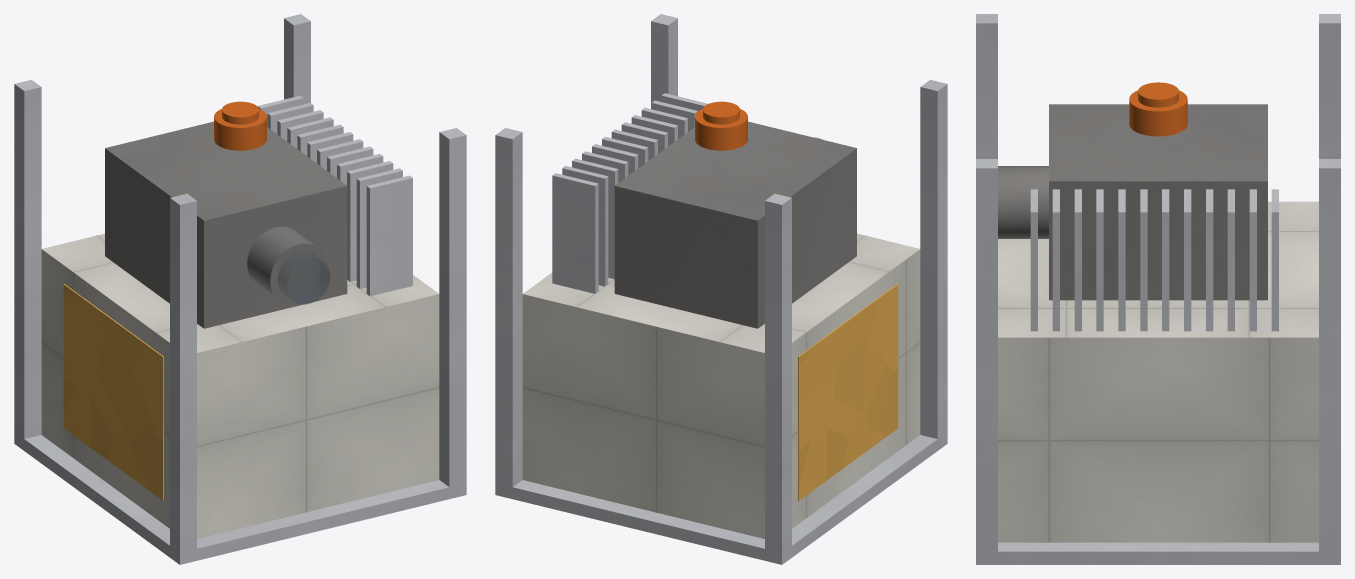
File: sci01_spectrometer_small.glb
3 renders of one model, left to right at view 1: azimuth 30°, elevation 25°; view 2: azimuth 150°, elevation 25°; view 3: azimuth 270°, elevation 25°, orthographic. The views are drawn at different scales.
Visible parts, largest first — view 1: body, slot_frame, spectrometer, gold_panels, cooler, port_1, optics; view 2: body, slot_frame, spectrometer, gold_panels, cooler, port_1; view 3: body, spectrometer, slot_frame, cooler, port_1.
Boxes of the visible parts, left/top/right/bottom form: body: left=41, top=233, right=439, bottom=538; slot_frame: left=14, top=14, right=466, bottom=564; spectrometer: left=105, top=121, right=347, bottom=328; gold_panels: left=63, top=284, right=163, bottom=500; cooler: left=257, top=95, right=412, bottom=296; port_1: left=214, top=101, right=266, bottom=150; optics: left=278, top=251, right=330, bottom=304; body: left=522, top=233, right=920, bottom=538; slot_frame: left=495, top=14, right=947, bottom=564; spectrometer: left=614, top=121, right=856, bottom=328; gold_panels: left=798, top=284, right=898, bottom=500; cooler: left=552, top=93, right=707, bottom=293; port_1: left=695, top=101, right=747, bottom=150; body: left=998, top=201, right=1318, bottom=542; spectrometer: left=998, top=104, right=1267, bottom=300; slot_frame: left=976, top=14, right=1340, bottom=564; cooler: left=1030, top=189, right=1278, bottom=331; port_1: left=1129, top=82, right=1187, bottom=136.
Bounding box in the file's own units: 0.5 × 0.6 × 0.5.
Materials: 6 (4 with a texture image).
